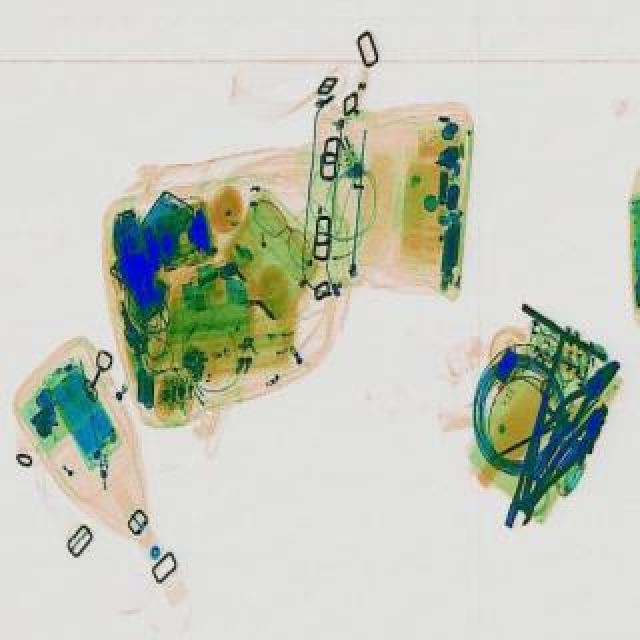scissors: (506, 378, 558, 518)
wrench: (524, 350, 626, 454)
